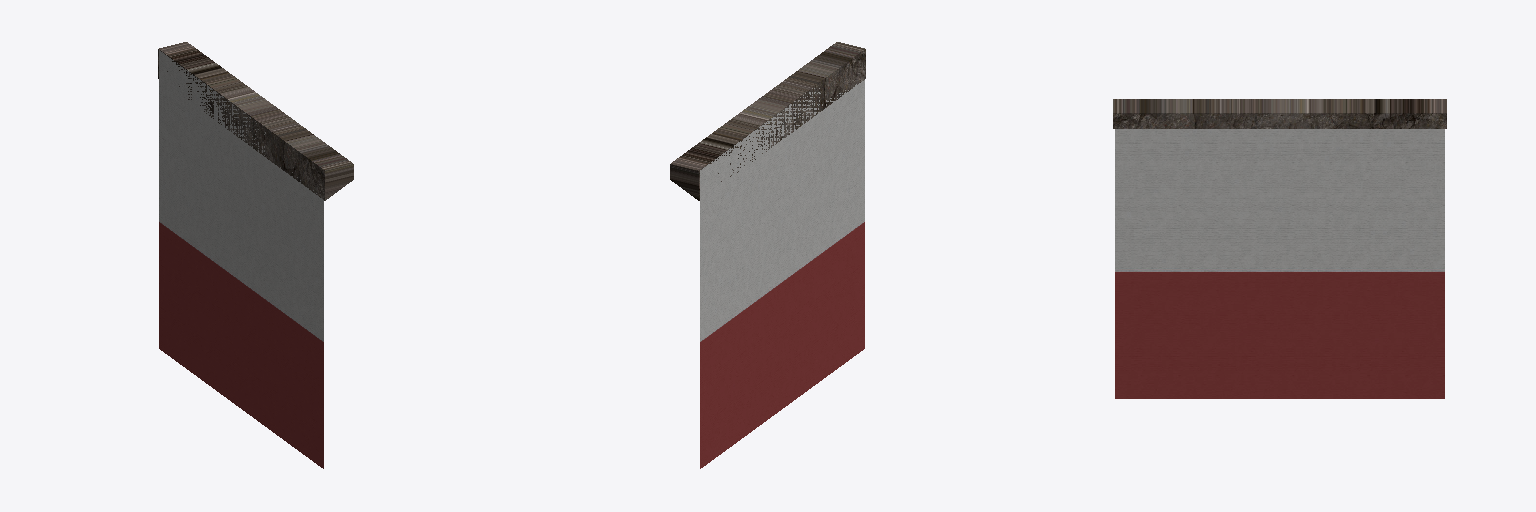
3 renders of one model, left to right at view 1: azimuth 30°, elevation 25°; view 2: azimuth 150°, elevation 25°; view 3: azimuth 270°, elevation 25°, orthographic.
Visible parts, largest first — view 1: Plane.001, Cube_Cube.002; view 2: Plane.001, Cube_Cube.002; view 3: Plane.001, Cube_Cube.002.
Boxes of the visible parts, x1,y1,x2,y2 form: Plane.001: [159, 50, 323, 468]; Cube_Cube.002: [158, 42, 353, 200]; Plane.001: [700, 80, 864, 468]; Cube_Cube.002: [670, 42, 865, 200]; Plane.001: [1115, 129, 1444, 398]; Cube_Cube.002: [1113, 99, 1446, 128].
Bounding box in the file's own units: 40 × 399 × 404.
2 materials, 2 textured.